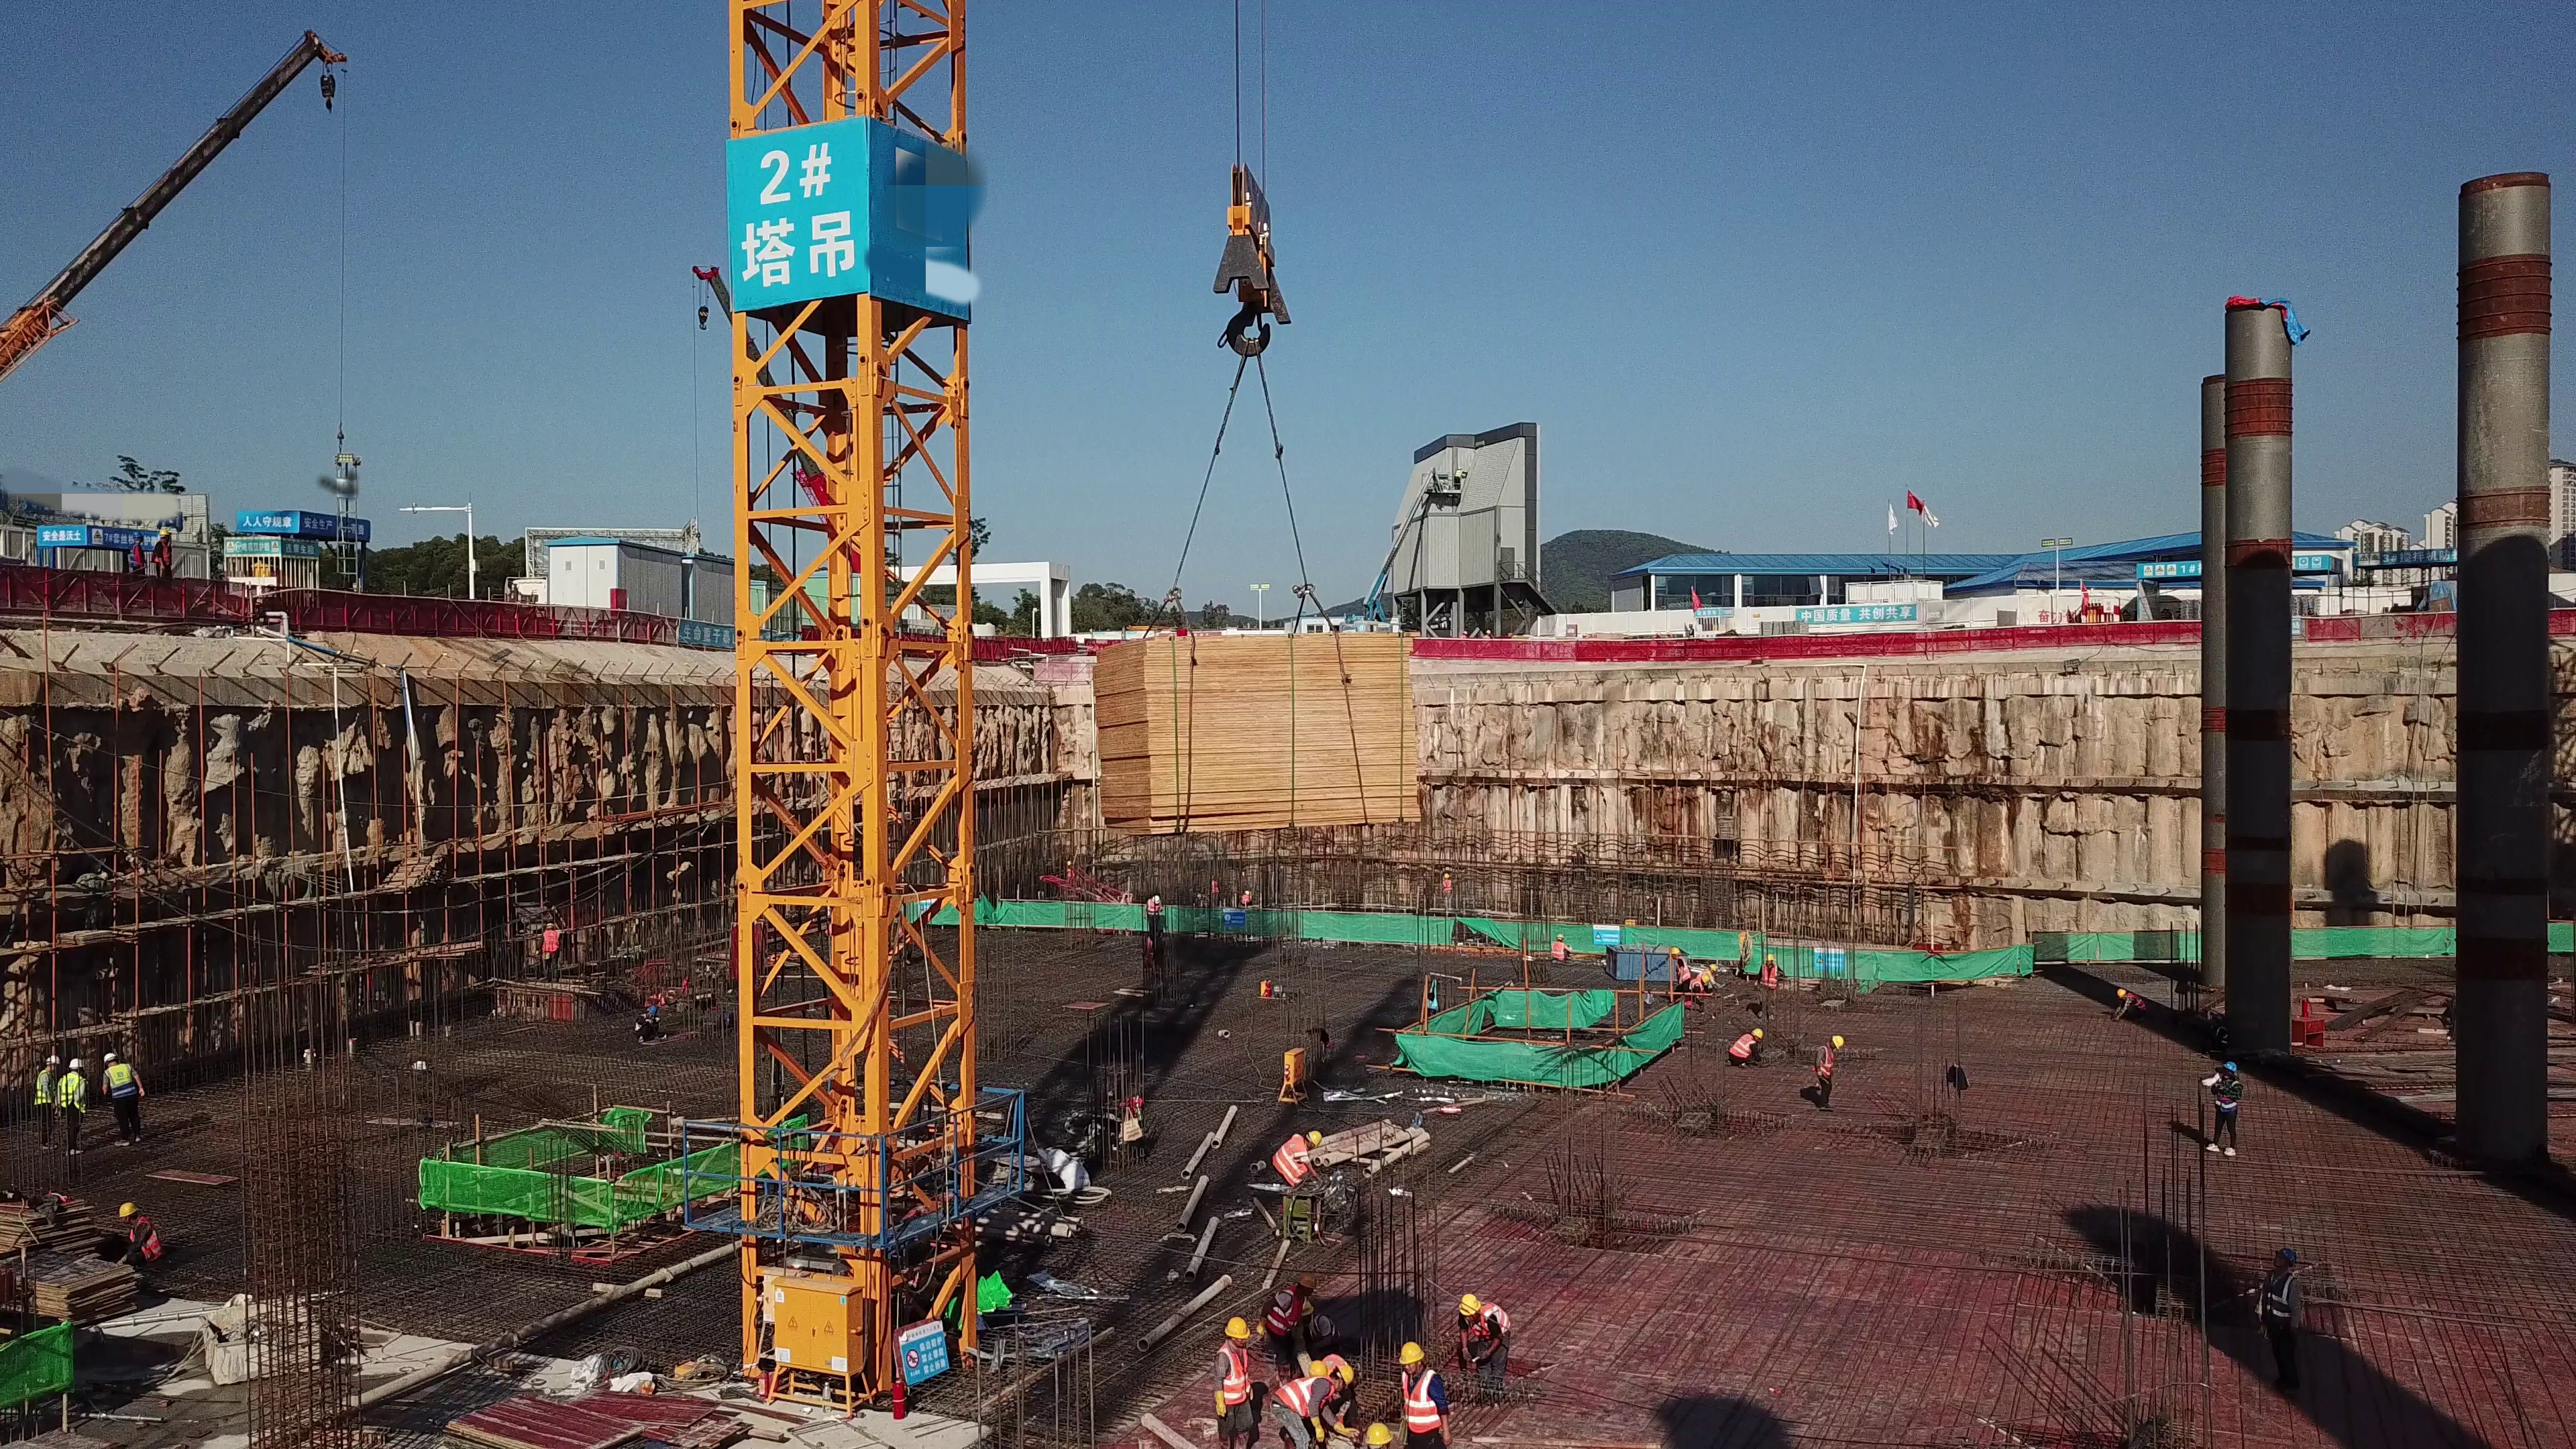board: (1089, 624, 1433, 835), (452, 1380, 773, 1449), (1, 1197, 121, 1318)
brick: (1760, 616, 1805, 639)
ebox: (767, 1266, 873, 1405), (1276, 1046, 1309, 1106)
fence: (315, 590, 632, 643), (1862, 630, 2105, 657)
helmet: (1362, 1423, 1392, 1445), (1460, 1295, 1481, 1320), (1222, 1320, 1251, 1338), (1398, 1344, 1425, 1361), (1337, 1363, 1358, 1383), (1301, 1273, 1320, 1289), (1308, 1360, 1328, 1377), (1314, 1314, 1331, 1336), (114, 1203, 140, 1215), (1309, 1130, 1321, 1147), (1833, 1035, 1845, 1051), (101, 1052, 118, 1063), (2224, 1061, 2238, 1073), (69, 1057, 85, 1068), (44, 1055, 59, 1065), (648, 1003, 659, 1013), (1670, 945, 1681, 955), (1711, 963, 1720, 975), (1750, 1028, 1762, 1037), (1764, 952, 1775, 961), (2115, 988, 2127, 998), (158, 528, 170, 535), (1152, 896, 1160, 904), (1699, 975, 1708, 984), (543, 922, 557, 928), (133, 531, 142, 538), (1556, 932, 1563, 940), (1197, 894, 1201, 900), (1245, 890, 1249, 895)
hook: (1199, 164, 1295, 358), (319, 72, 339, 115), (694, 304, 711, 329)
hopper: (1606, 936, 1674, 990)
person: (2233, 1238, 2329, 1430), (1270, 1350, 1362, 1449), (1454, 1289, 1519, 1405), (2196, 1047, 2254, 1168), (1393, 1337, 1451, 1449), (1213, 1313, 1259, 1446), (99, 1051, 152, 1146), (113, 1194, 172, 1277), (1259, 1267, 1311, 1356), (1271, 1125, 1330, 1193), (1810, 1032, 1851, 1114), (60, 1053, 93, 1155), (1750, 947, 1789, 1020), (537, 919, 571, 987), (35, 1053, 58, 1148), (1721, 1028, 1767, 1076), (1662, 943, 1693, 1010), (2102, 987, 2156, 1025), (633, 1002, 672, 1053), (150, 523, 180, 582), (1690, 959, 1727, 1004), (1141, 892, 1168, 945), (1306, 1315, 1348, 1342), (129, 529, 151, 576), (1550, 928, 1576, 963), (1440, 867, 1459, 908), (1207, 875, 1222, 907), (1193, 892, 1212, 910), (1237, 888, 1257, 906), (2303, 604, 2322, 616), (1687, 621, 1698, 641), (1479, 628, 1491, 640), (1458, 631, 1470, 639)
slogan: (727, 136, 862, 289), (1801, 602, 1910, 627), (307, 511, 377, 543), (689, 620, 743, 651), (31, 524, 91, 551), (245, 512, 300, 529), (227, 541, 282, 557), (281, 539, 319, 559)
vest: (1400, 1367, 1438, 1430), (1219, 1343, 1255, 1400), (1277, 1375, 1332, 1410), (1269, 1288, 1301, 1334), (1271, 1140, 1306, 1183), (132, 1220, 162, 1260), (1479, 1305, 1510, 1337), (105, 1065, 131, 1099), (60, 1072, 84, 1109), (36, 1069, 56, 1104), (2216, 1078, 2237, 1114), (1817, 1046, 1836, 1079), (1731, 1035, 1753, 1059), (2127, 993, 2149, 1013), (543, 929, 560, 953), (154, 541, 172, 564), (1323, 1352, 1346, 1368), (129, 544, 145, 566), (1674, 959, 1688, 982), (637, 1013, 656, 1030), (1762, 965, 1775, 988), (1551, 941, 1566, 959), (1148, 902, 1163, 918), (1242, 896, 1252, 906), (1690, 977, 1700, 988), (1211, 882, 1220, 894)
